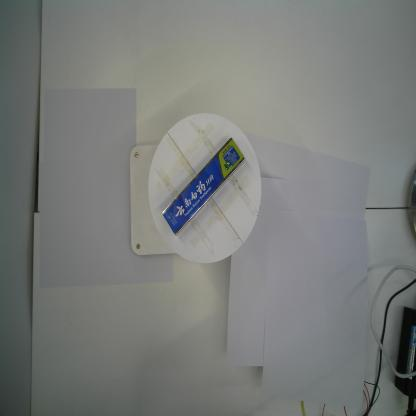Personal Hygiene: (162, 134, 246, 238)
